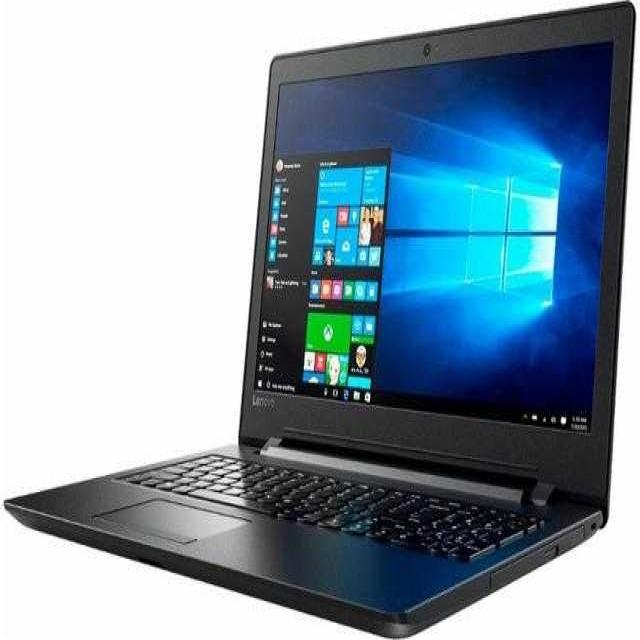laptop: (6, 2, 636, 589)
